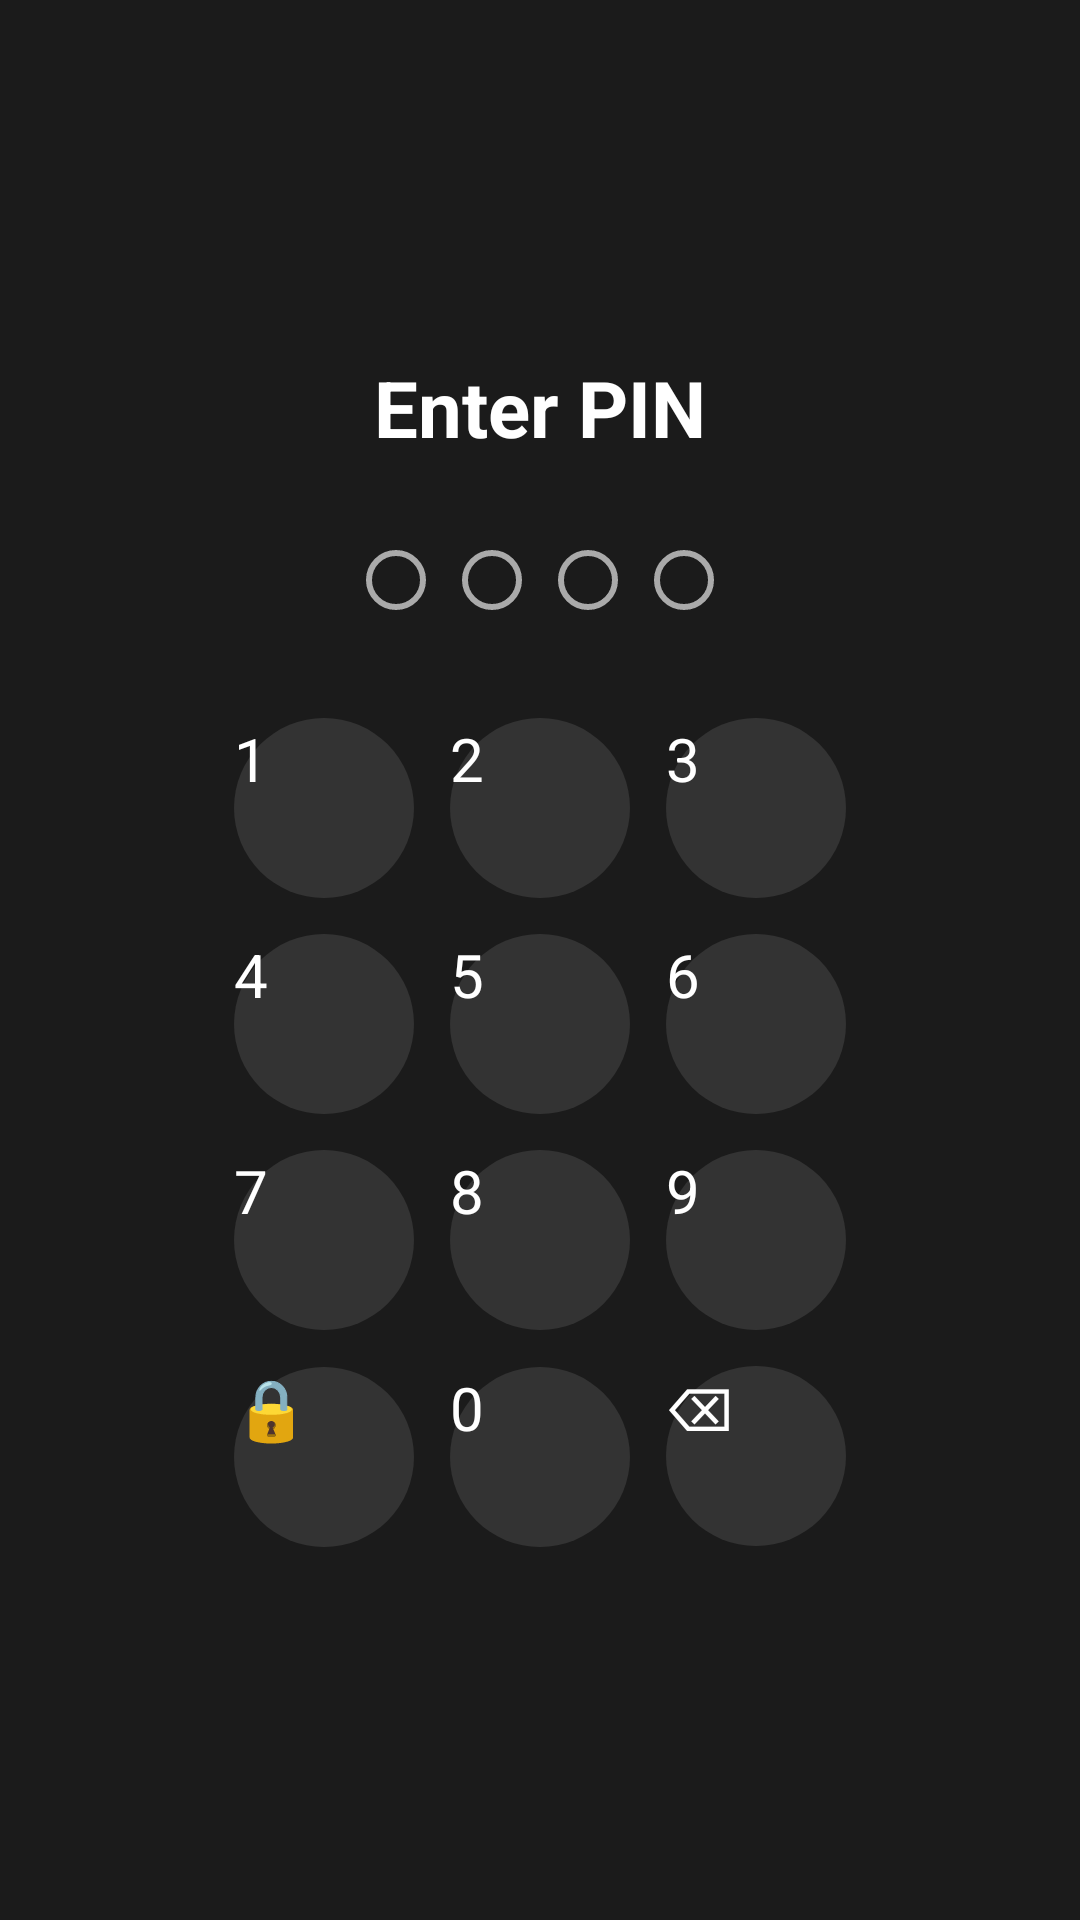

Icons on this 1080w x 1920h Android screen, each with its box as (x1, y1, x2, y2):
pin dot: (366, 550, 426, 610), (462, 550, 522, 610), (558, 550, 618, 610), (654, 550, 714, 610)
